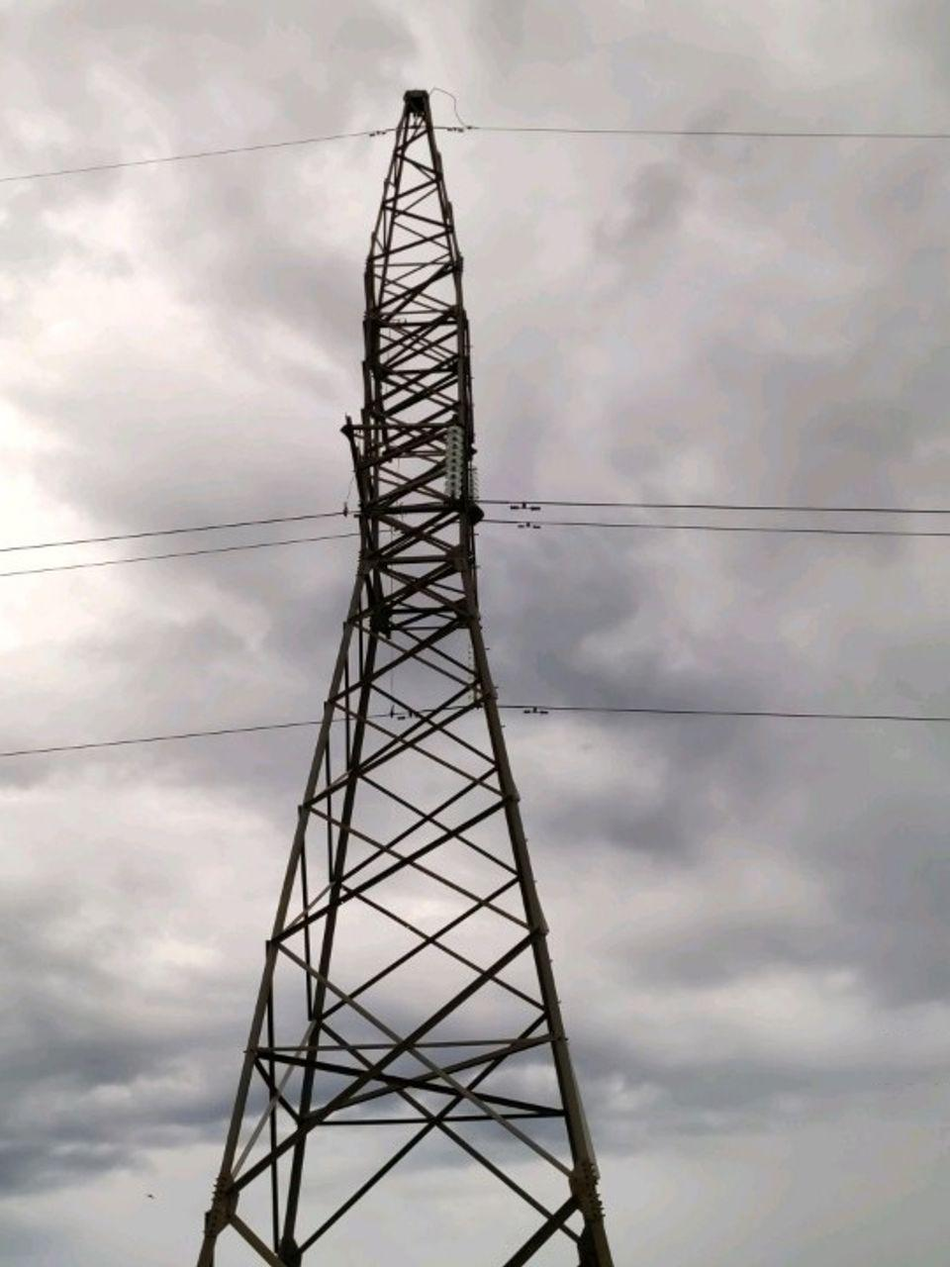tower: (156, 58, 658, 1267)
